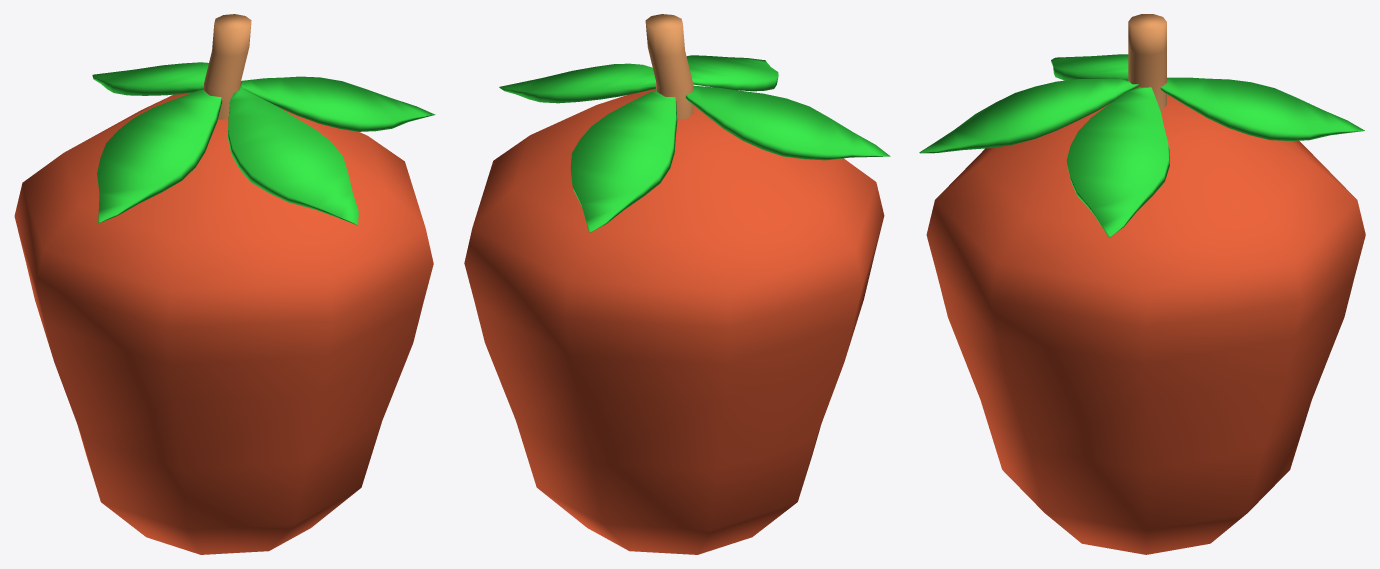
The model's file is strawberry.glb.
3 renders of one model, left to right at view 1: azimuth 30°, elevation 25°; view 2: azimuth 150°, elevation 25°; view 3: azimuth 270°, elevation 25°, orthographic.
Visible parts, largest first — view 1: StrawberryB_002.001, StrawberryB_002.004, StrawberryB_002.002, StrawberryB_002.003, StrawberryB_002, StrawberryB_002.005; view 2: StrawberryB_002.001, StrawberryB_002.005, StrawberryB_002.002, StrawberryB_002.003, StrawberryB_002, StrawberryB_002.004; view 3: StrawberryB_002.001, StrawberryB_002.003, StrawberryB_002.004, StrawberryB_002.005, StrawberryB_002, StrawberryB_002.002.
Part boxes in pixels (bbox=[...]): StrawberryB_002.001: bbox=[14, 93, 433, 554]; StrawberryB_002.004: bbox=[228, 85, 358, 225]; StrawberryB_002.002: bbox=[97, 89, 222, 222]; StrawberryB_002.003: bbox=[241, 76, 435, 131]; StrawberryB_002: bbox=[204, 14, 251, 119]; StrawberryB_002.005: bbox=[92, 62, 208, 95]; StrawberryB_002.001: bbox=[464, 89, 884, 554]; StrawberryB_002.005: bbox=[570, 90, 677, 232]; StrawberryB_002.002: bbox=[685, 85, 890, 160]; StrawberryB_002.003: bbox=[499, 63, 655, 103]; StrawberryB_002: bbox=[645, 14, 693, 120]; StrawberryB_002.004: bbox=[686, 55, 778, 91]; StrawberryB_002.001: bbox=[926, 94, 1365, 554]; StrawberryB_002.003: bbox=[1066, 87, 1169, 237]; StrawberryB_002.004: bbox=[919, 79, 1138, 153]; StrawberryB_002.005: bbox=[1160, 77, 1364, 140]; StrawberryB_002: bbox=[1128, 14, 1166, 110]; StrawberryB_002.002: bbox=[1051, 54, 1128, 80].
Size of the model in its own units: 1.56 by 1.99 by 1.56.
